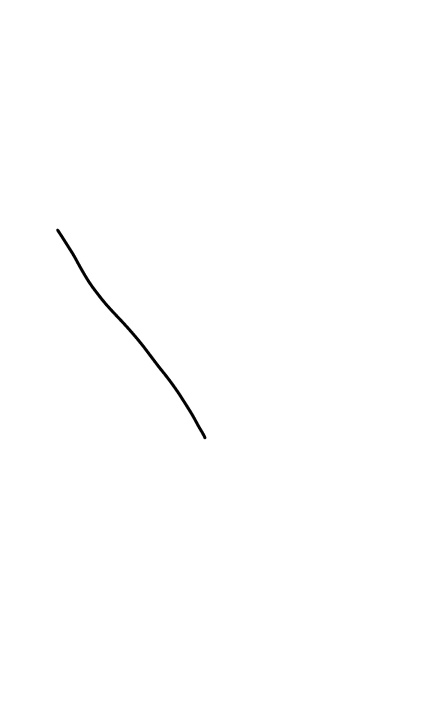Line: (49, 221, 213, 449)
